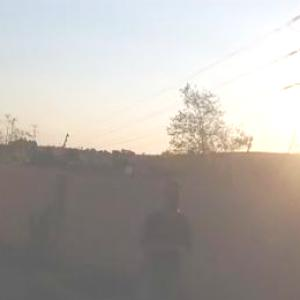follow: (135, 178, 200, 299)
